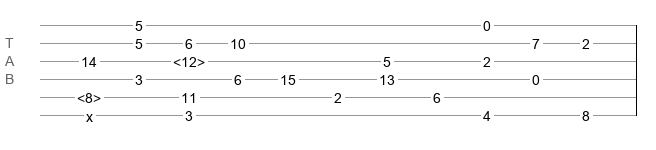0: (483, 18, 491, 28), (532, 72, 540, 82)
10: (230, 36, 246, 46)
11: (181, 90, 197, 100)
13: (379, 72, 395, 82)
14: (81, 54, 97, 64)
15: (280, 72, 296, 82)
2: (334, 90, 342, 100), (483, 54, 491, 64), (582, 36, 590, 46)
3: (135, 72, 143, 82), (185, 108, 193, 118)
4: (483, 108, 491, 118)
5: (135, 36, 143, 46), (135, 18, 143, 28), (383, 54, 391, 64)
6: (185, 36, 193, 46), (234, 72, 242, 82), (433, 90, 441, 100)
7: (532, 36, 540, 46)
8: (582, 108, 590, 118)
harmonic: (173, 54, 205, 64), (77, 90, 101, 100)
x: (86, 109, 93, 117)
